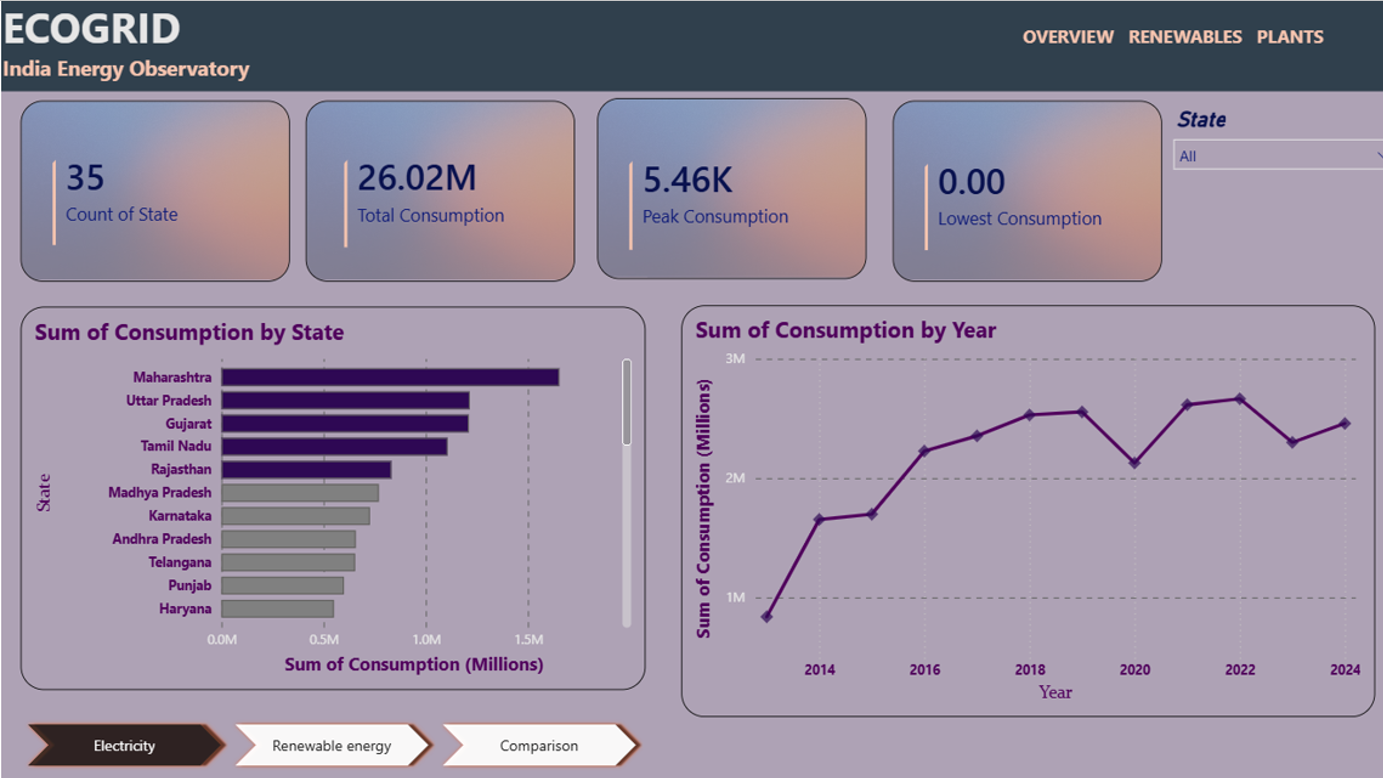

Layout of this report page (visuals, bound fields, positions):
{"tool":"powerbi","page":{"name":"Electricity","canvas":[1280,720],"ordinal":0},"visuals":[{"type":"image","box":[811.4,97.1,244.3,162.9],"z":0},{"type":"image","box":[280,97.1,244.3,162.9],"z":1000},{"type":"image","box":[544.3,95.7,244.3,162.9],"z":2000},{"type":"image","box":[21.4,97.1,244.3,162.9],"z":3000},{"type":"cardVisual","fields":{"Data":["India Electricity Consumption.Total Consumption"]},"box":[285.7,95.7,225.7,164.3],"z":4000},{"type":"cardVisual","fields":{"Data":["Count(India Electricity Consumption.State)"]},"box":[21.4,95.7,244.3,162.9],"z":5000},{"type":"cardVisual","fields":{"Data":["Fuel Categories.Consumption Growth %"]},"box":[544.6,96.2,245.2,165.3],"z":6000},{"type":"lineChart","fields":{"Category":["India Electricity Consumption.Dates.Variation.Date Hierarchy.Year","India Electricity Consumption.Dates.Variation.Date Hierarchy.Quarter","India Electricity Consumption.Dates.Variation.Date Hierarchy.Month","India Electricity Consumption.Dates.Variation.Date Hierarchy.Day"],"Y":["Sum(India Electricity Consumption.Consumption)"]},"box":[620.1,282.3,628.6,371.6],"z":7000},{"type":"clusteredBarChart","fields":{"Category":["India Electricity Consumption.State"],"Y":["Sum(India Electricity Consumption.Consumption)"]},"box":[21.4,283.3,566.7,345.2],"z":8000},{"type":"pageNavigator","box":[21.4,653.6,566.7,50],"z":9000},{"type":"cardVisual","fields":{"Data":["Fuel Categories.Lowest Consumption"]},"box":[811.9,98.8,244,163.1],"z":10000},{"type":"textbox","box":[0,1.2,1279.8,88.1],"z":11000},{"type":"slicer","fields":{"Values":["India Electricity Consumption.State"]},"box":[1055.6,98.9,224.4,66.4],"z":12000}]}

Visuals, with their boxes in screenshot pixels (x1, y1, x2, y2), scaled from the page's 1280x720 canvas onto the 1383x778 screenshot:
image: {"x1": 877, "y1": 105, "x2": 1141, "y2": 281}
image: {"x1": 303, "y1": 105, "x2": 566, "y2": 281}
image: {"x1": 588, "y1": 103, "x2": 852, "y2": 279}
image: {"x1": 23, "y1": 105, "x2": 287, "y2": 281}
cardVisual - India Electricity Consumption.Total Consumption: {"x1": 309, "y1": 103, "x2": 553, "y2": 281}
cardVisual - Count(India Electricity Consumption.State): {"x1": 23, "y1": 103, "x2": 287, "y2": 279}
cardVisual - Fuel Categories.Consumption Growth %: {"x1": 588, "y1": 104, "x2": 853, "y2": 283}
lineChart - India Electricity Consumption.Dates.Variation.Date Hierarchy.Year x India Electricity Consumption.Dates.Variation.Date Hierarchy.Quarter: {"x1": 670, "y1": 305, "x2": 1349, "y2": 707}
clusteredBarChart - India Electricity Consumption.State x Sum(India Electricity Consumption.Consumption): {"x1": 23, "y1": 306, "x2": 635, "y2": 679}
pageNavigator: {"x1": 23, "y1": 706, "x2": 635, "y2": 760}
cardVisual - Fuel Categories.Lowest Consumption: {"x1": 877, "y1": 107, "x2": 1141, "y2": 283}
textbox: {"x1": 0, "y1": 1, "x2": 1382, "y2": 96}
slicer - India Electricity Consumption.State: {"x1": 1141, "y1": 107, "x2": 1382, "y2": 179}
